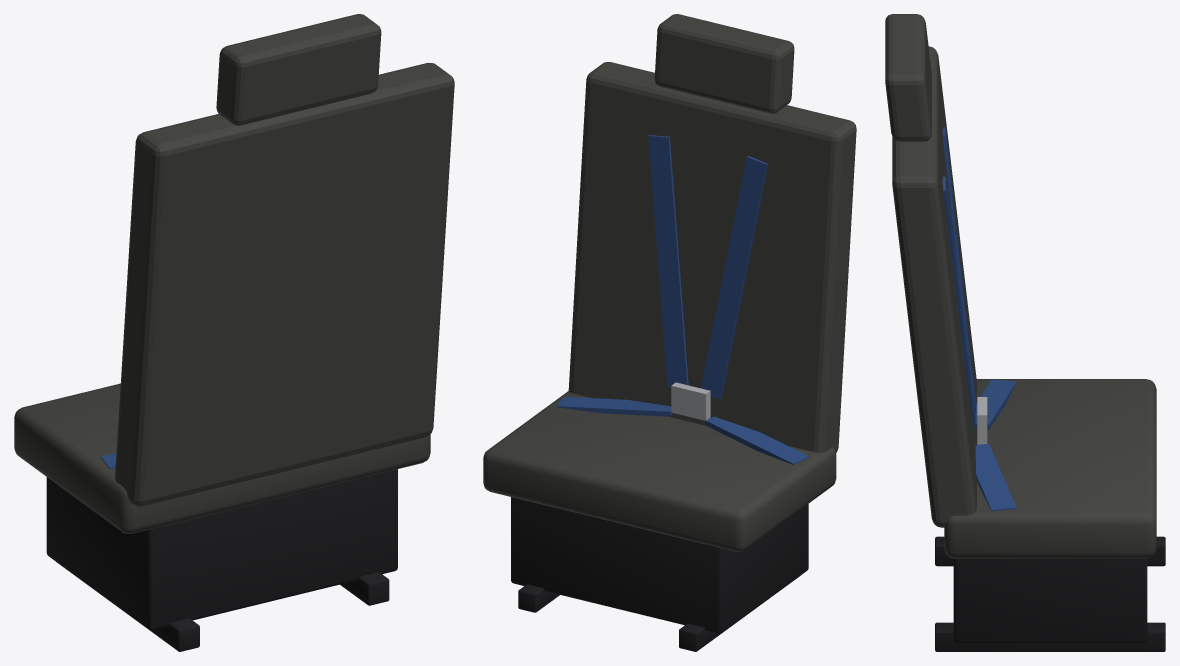
The model's file is butaca.glb.
The picture shows the model from 3 angles, left to right: view 1: azimuth 30°, elevation 25°; view 2: azimuth 150°, elevation 25°; view 3: azimuth 270°, elevation 25°; orthographic projection. The views are drawn at different scales.
Visible parts, largest first — view 1: butaca; view 2: butaca; view 3: butaca.
Part boxes in pixels (bbox=[...]): butaca: bbox=[14, 14, 454, 651]; butaca: bbox=[483, 14, 856, 651]; butaca: bbox=[885, 14, 1165, 651].
Bounding box in the file's own units: 0.72 × 1.34 × 0.6081.
